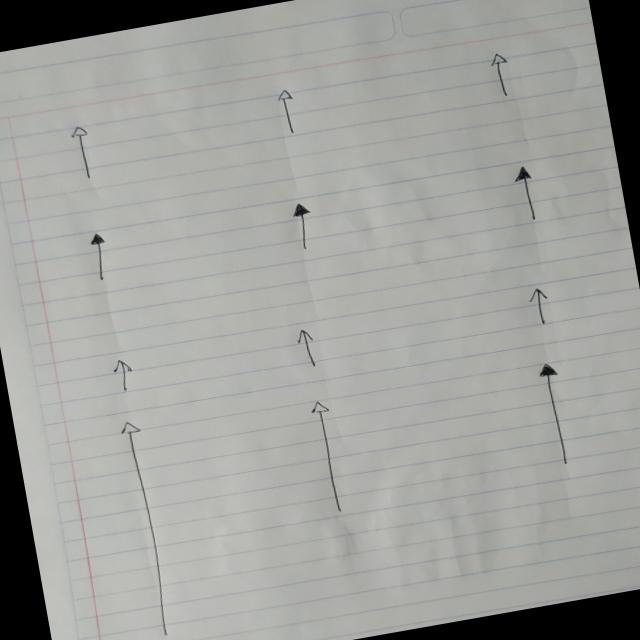arrow_line_up: (117, 418, 177, 638), (306, 398, 348, 516), (535, 360, 574, 466), (68, 123, 96, 180), (512, 163, 539, 222), (486, 50, 516, 100), (288, 200, 316, 250), (86, 230, 112, 282), (293, 326, 323, 368), (274, 86, 298, 136), (526, 284, 554, 326), (109, 356, 135, 394)
